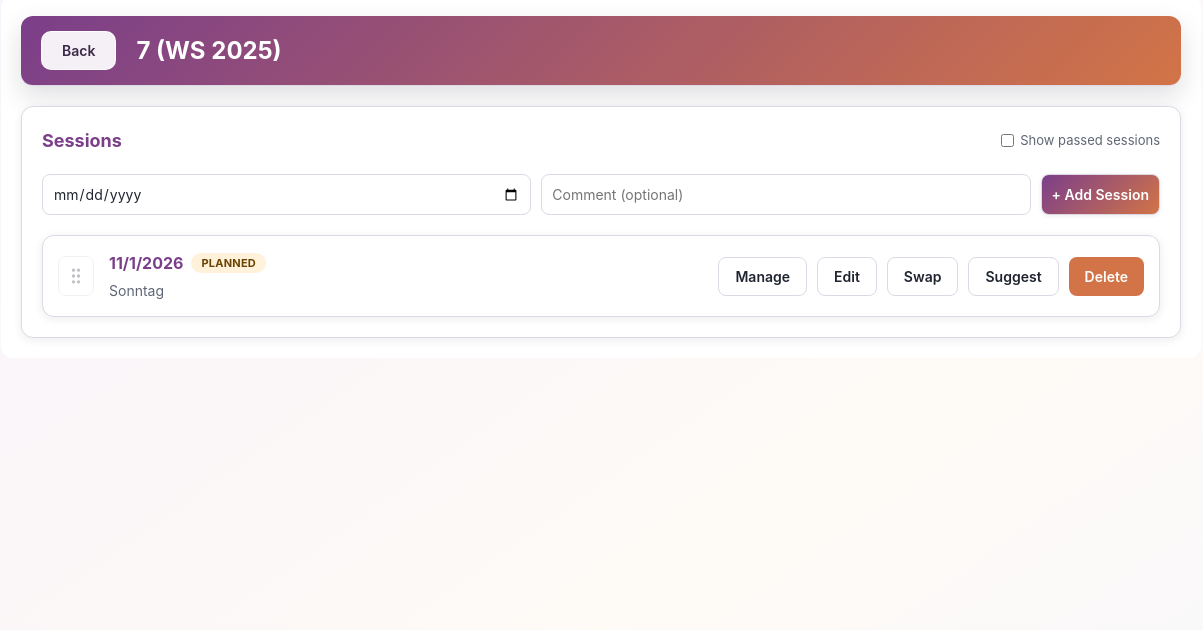
CourseDetail › shows New for a session dance
Click the button "Manage" at coordinates (763, 276), box [718,256,807,296]
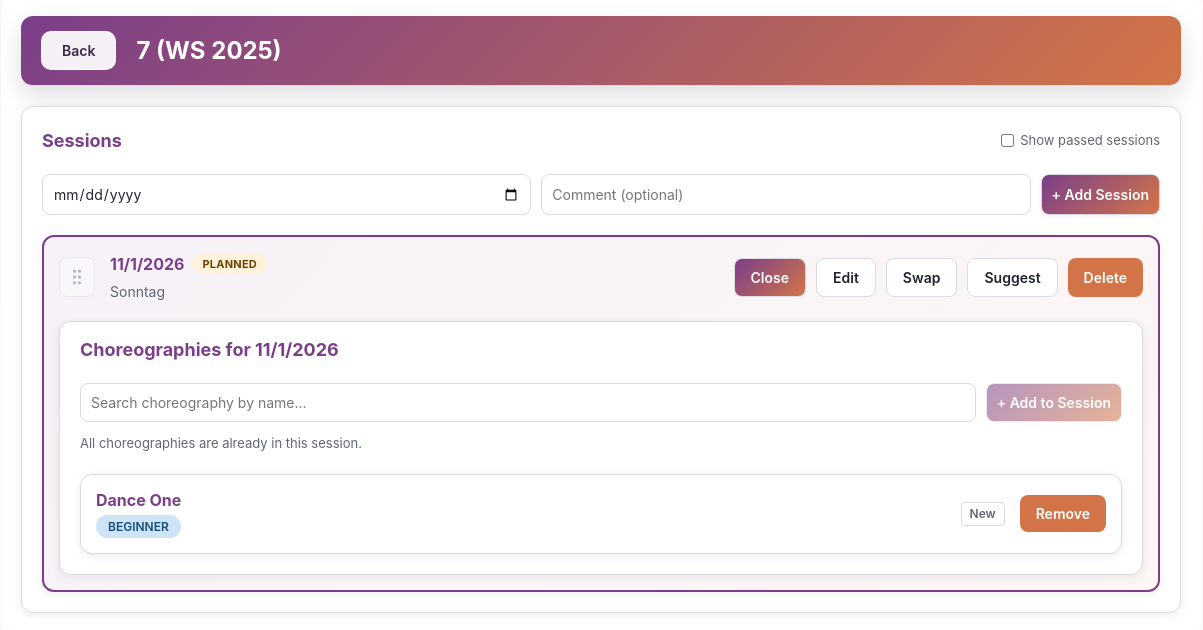
Check: the text named "Newly learned" reads "New", box [970,506,996,520]
